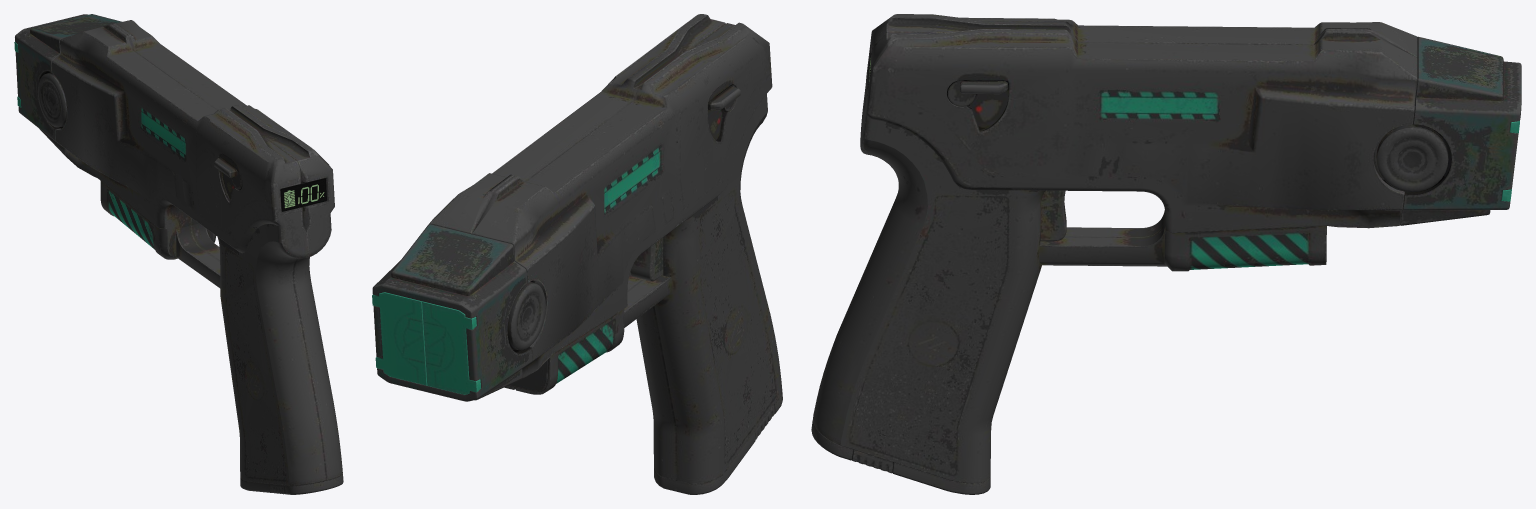
Rendered from taser_r.glb.
3 views of the same model, side by side, from view 1: azimuth 30°, elevation 25°; view 2: azimuth 150°, elevation 25°; view 3: azimuth 270°, elevation 25° (orthographic). The views are drawn at different scales.
Visible parts, largest first — view 1: v_taser_R; view 2: v_taser_R; view 3: v_taser_R.
Part boxes in pixels (<box>): v_taser_R: <box>14,14,343,494</box>; v_taser_R: <box>372,14,782,494</box>; v_taser_R: <box>811,14,1521,494</box>.
Bounding box in the file's own units: 0.0478 × 0.1763 × 0.2483.
Materials: 2 (2 with a texture image).
